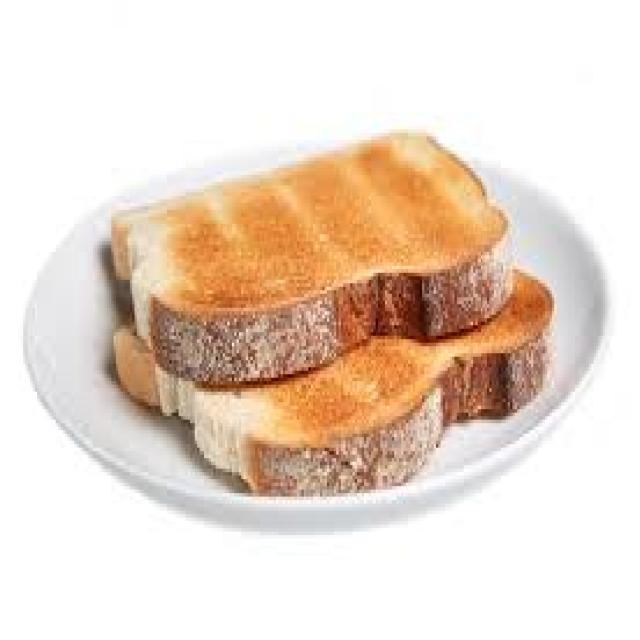Bread: (128, 134, 511, 384), (190, 273, 552, 495)
